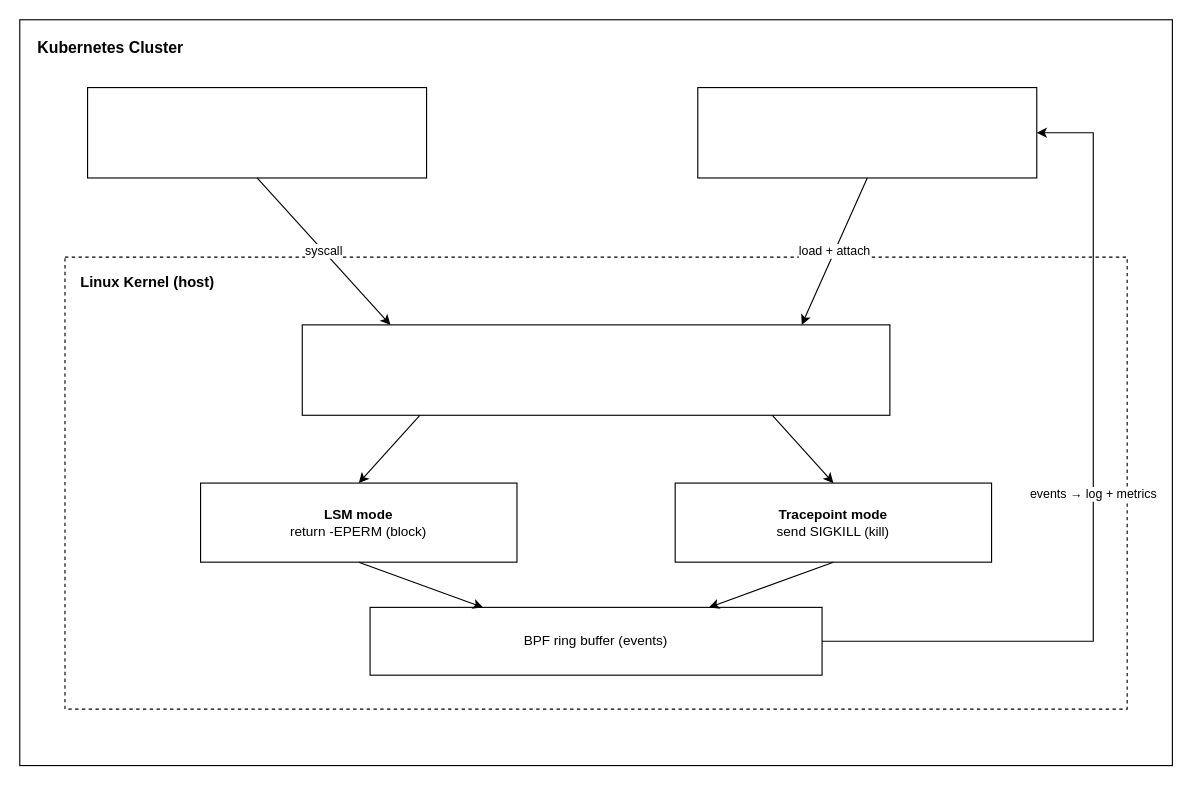
Image size: 1192x785. Some labels were removed from this diagram. The centre of each missing label's shape, as x and y in pixels:
copyfail-guard agent (DaemonSet, one per node): the point at 867,132
eBPF program (LSM / tracepoint) filter: family == AF_ALG ?: the point at 595,369
User Pod socket(AF_ALG, ...): the point at 256,132
